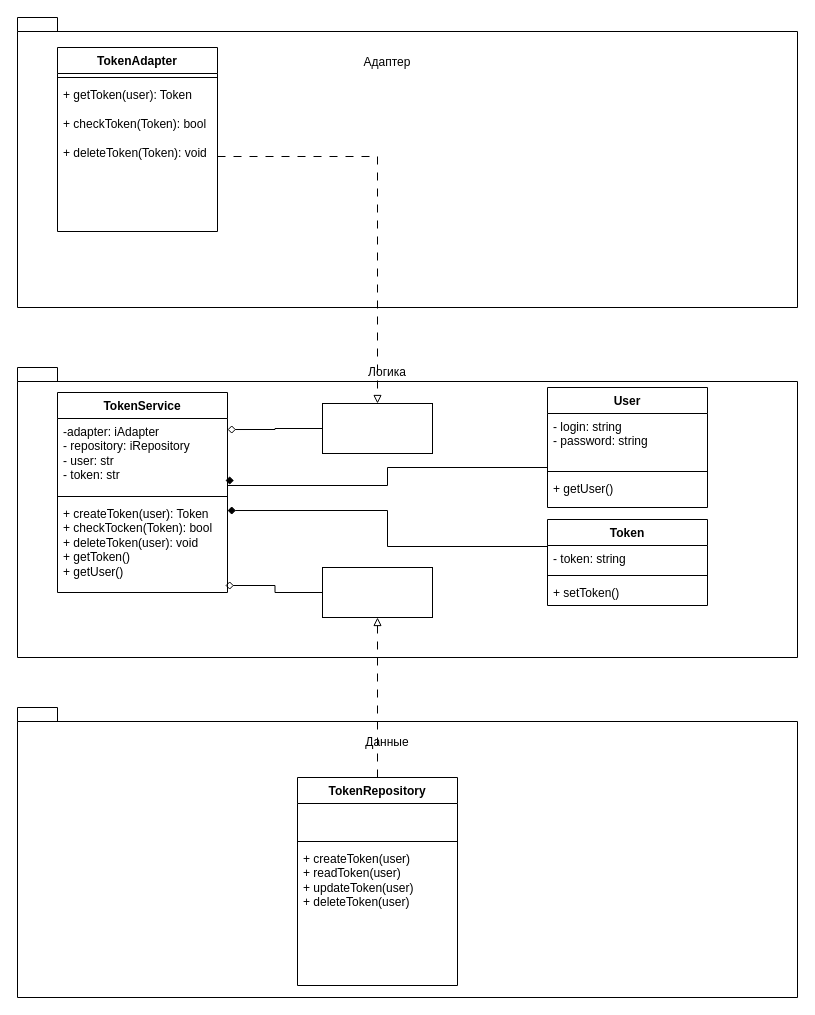
This 815x1015 diagram has some shape labels left out. The centre of each missing label's shape, as x and y in pixels:
"«interface» iAdapter" belongs at [377,428].
"«interface» iRepository" belongs at [377,592].
